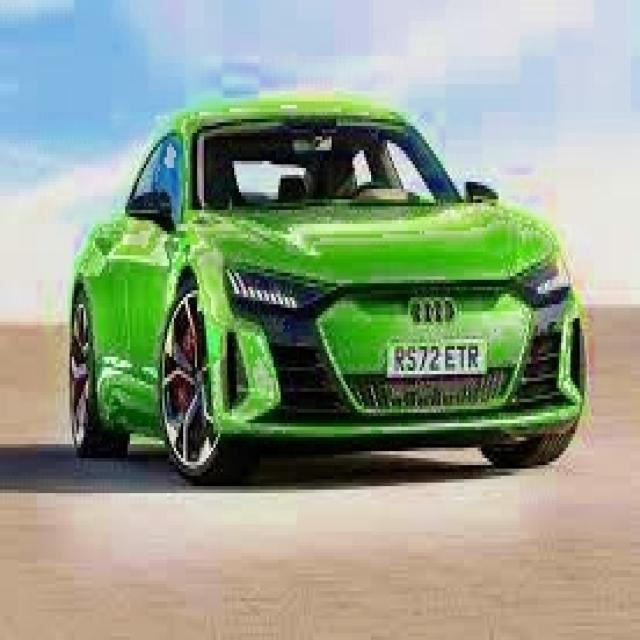green: (58, 97, 582, 506)
